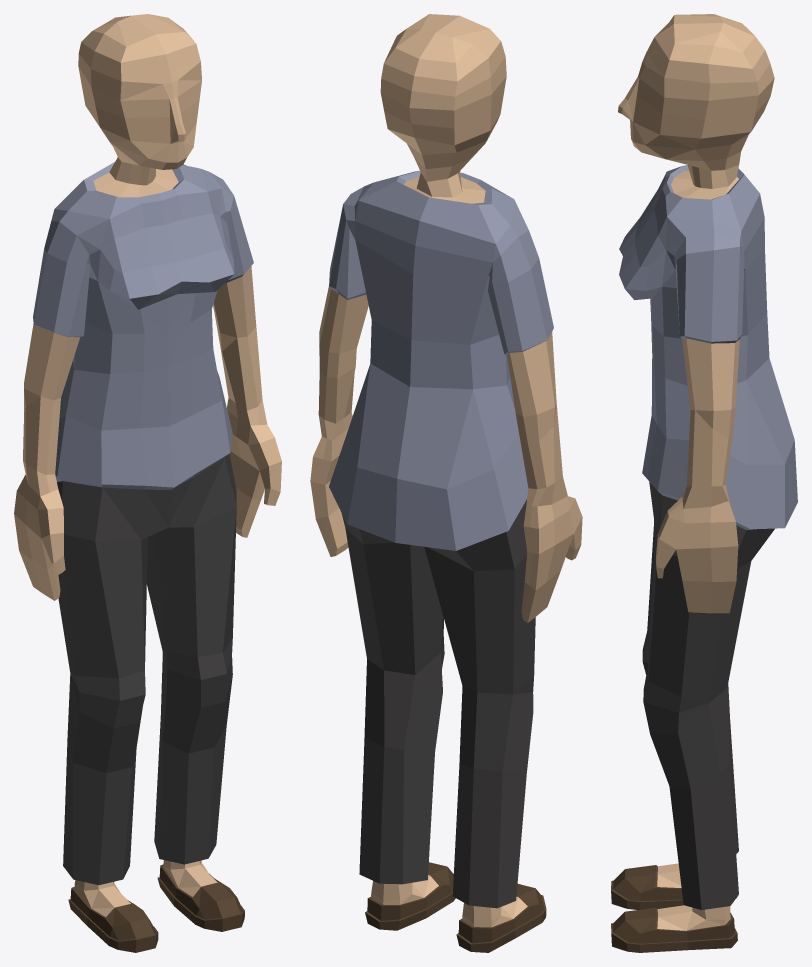
File: Female_Standing.glb
3 renders of one model, left to right at view 1: azimuth 30°, elevation 25°; view 2: azimuth 150°, elevation 25°; view 3: azimuth 270°, elevation 25°, orthographic. The views are drawn at different scales.
Parts seen in each view (by area): view 1: Female_Standing; view 2: Female_Standing; view 3: Female_Standing.
Part boxes in pixels (x1=…): Female_Standing: x1=14, y1=14, x2=281, y2=952; Female_Standing: x1=310, y1=14, x2=582, y2=952; Female_Standing: x1=611, y1=14, x2=797, y2=952.
Size of the model in its own units: 1.01 by 3.7 by 0.6994.
